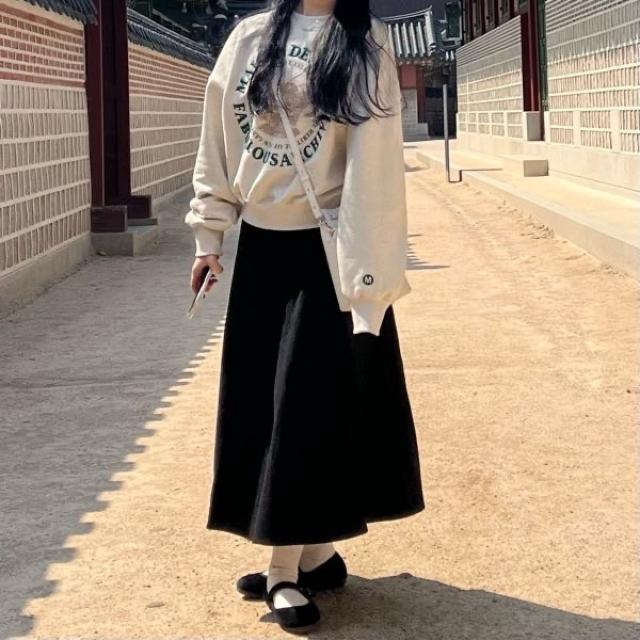mtm: (184, 8, 406, 341)
skirt: (202, 216, 424, 543)
